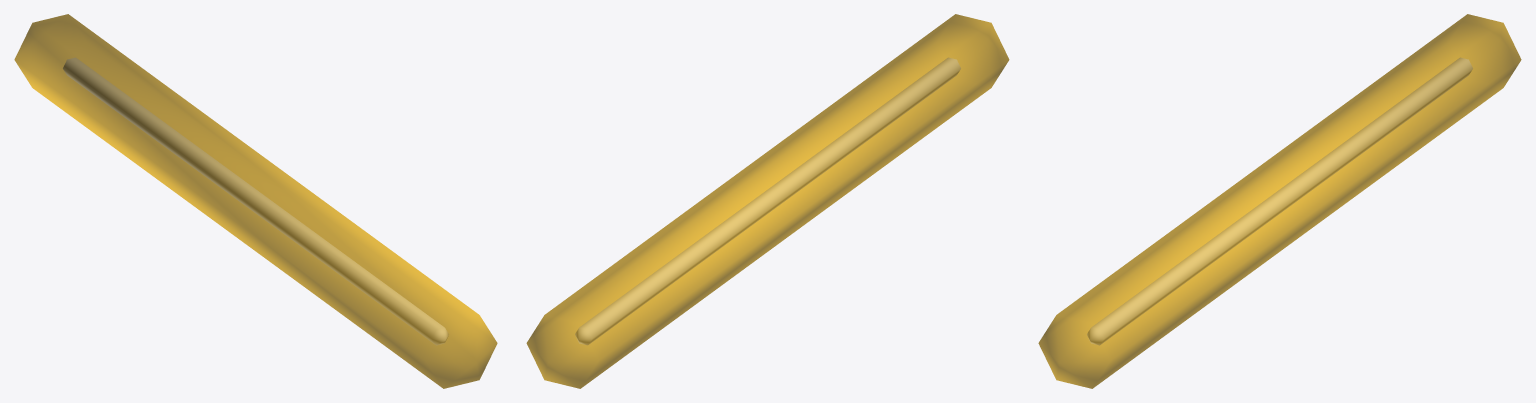
Rendered from orange_turret_laser_model.fbx.
The picture shows the model from 3 angles, left to right: view 1: azimuth 30°, elevation 25°; view 2: azimuth 150°, elevation 25°; view 3: azimuth 330°, elevation 25°; orthographic projection.
Visible parts, largest first — view 1: glow, bolt; view 2: glow, bolt; view 3: glow, bolt.
Part boxes in pixels (x1=…): glow: x1=14, y1=14, x2=497, y2=388; bolt: x1=63, y1=57, x2=448, y2=345; glow: x1=526, y1=14, x2=1009, y2=388; bolt: x1=575, y1=57, x2=960, y2=345; glow: x1=1038, y1=14, x2=1521, y2=388; bolt: x1=1087, y1=57, x2=1472, y2=345.
Size of the model in its own units: 7.56 by 6.55 by 80.08.
